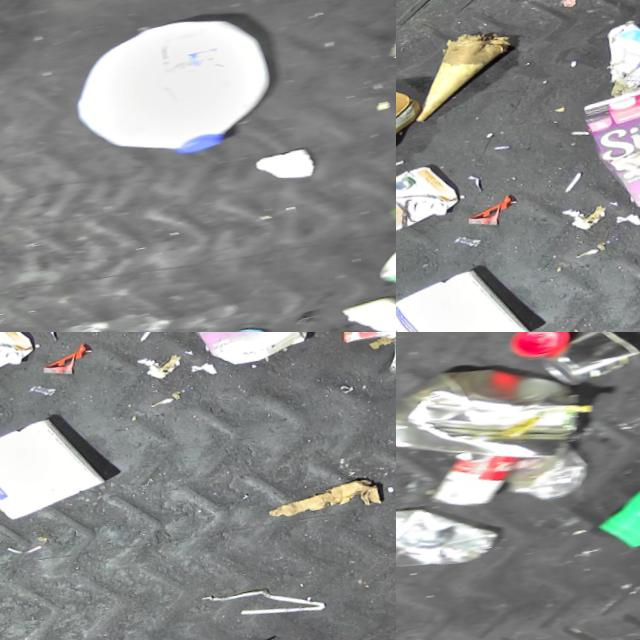can: (396, 342, 602, 490), (428, 439, 535, 514), (540, 332, 640, 390)
milk_jug: (63, 1, 291, 177)
non_white_jug: (576, 68, 640, 227), (151, 332, 327, 376), (396, 157, 467, 253), (588, 429, 640, 552), (0, 332, 42, 402)
